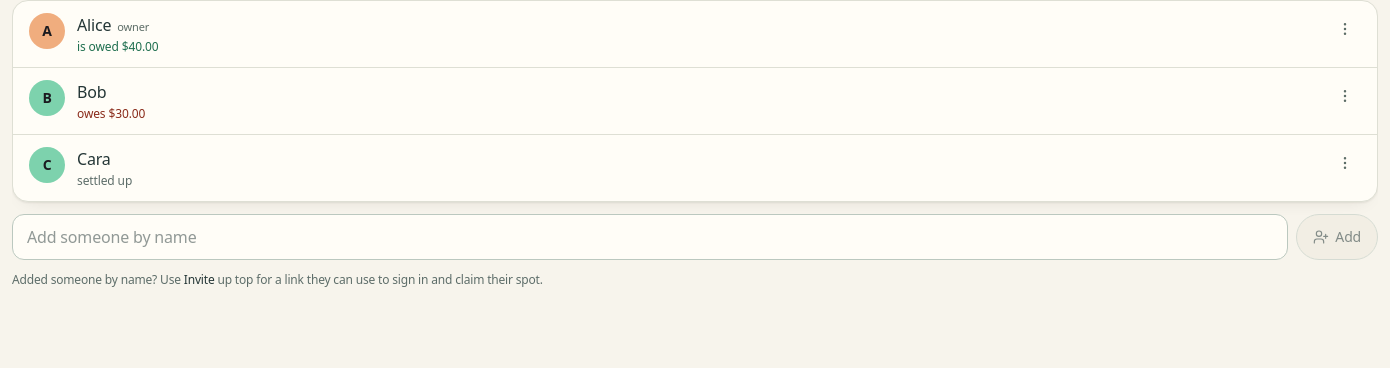
Test: renaming › starts from the name they already have
What coordinates should you click on to do the following:
click the button named "Options for Bob"
I would click on:
 (1345, 96)
Its box is [1329,80,1361,112].
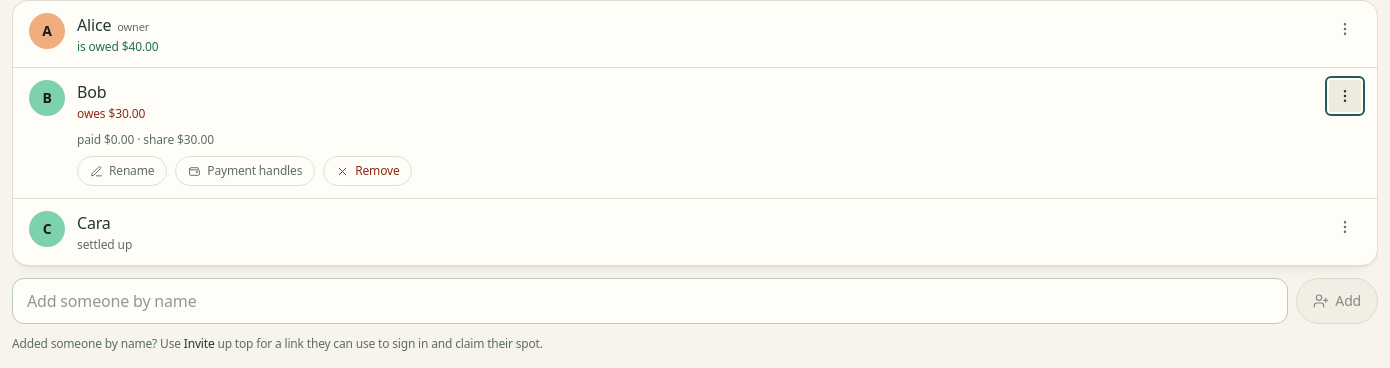
What coordinates should you click on to do the following:
click the button "Rename"
I would click on:
 (122, 171)
Its box is [77,156,167,186].
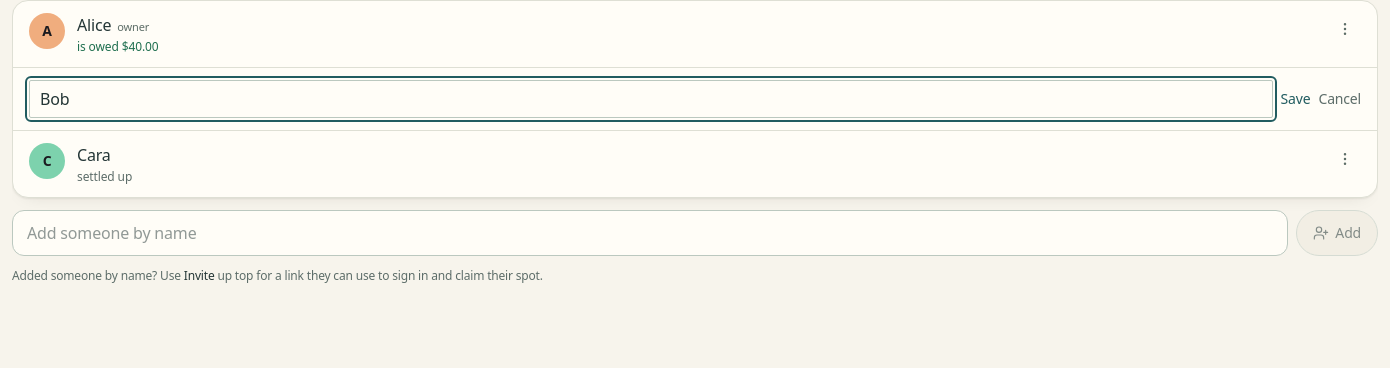
Check: the field named "Member name" holds "Bob", box [29,80,1273,118]
